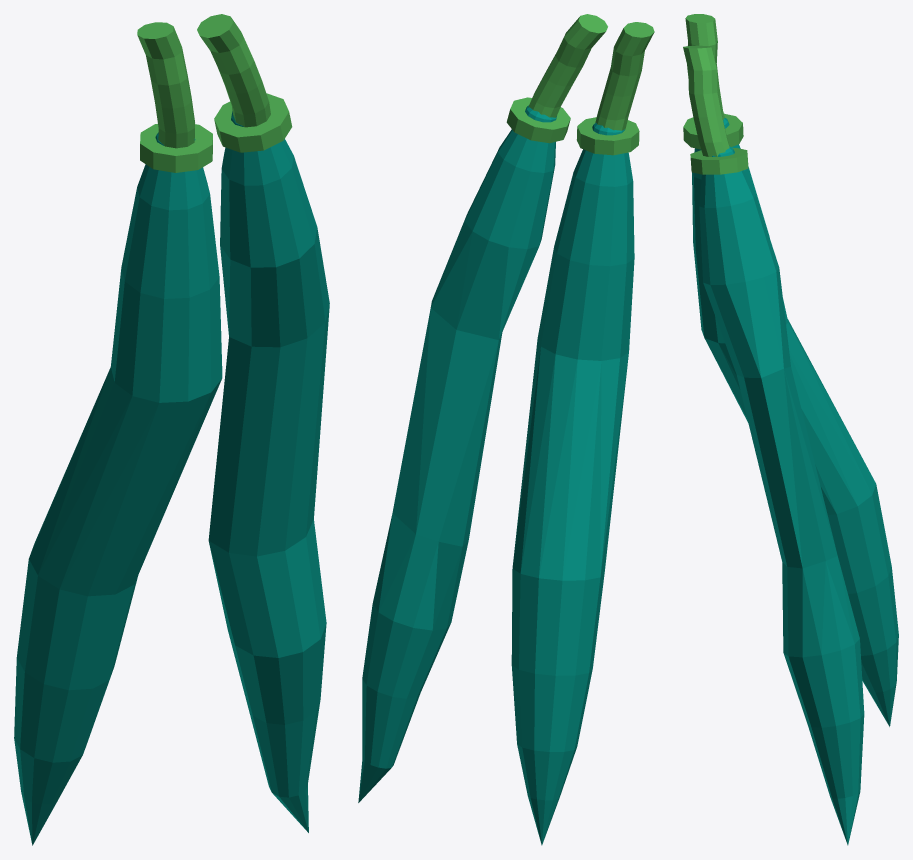
File: Beans.fbx
3 renders of one model, left to right at view 1: azimuth 30°, elevation 25°; view 2: azimuth 150°, elevation 25°; view 3: azimuth 270°, elevation 25°, orthographic. The views are drawn at different scales.
Visible parts, largest first — view 1: mesh_1239635026, mesh_1218014216, group_1250333035, group_880767537, group_1792894746, group_1401879506; view 2: mesh_1239635026, mesh_1218014216, group_1250333035, group_880767537, group_1792894746, group_1401879506; view 3: mesh_1218014216, mesh_1239635026, group_880767537, group_1250333035, group_1792894746, group_1401879506.
Boxes of the visible parts, x1,y1,x2,y2 form: mesh_1239635026: [14, 132, 222, 845]; mesh_1218014216: [208, 111, 329, 832]; group_1250333035: [137, 22, 194, 148]; group_880767537: [197, 14, 270, 127]; group_1792894746: [214, 93, 292, 152]; group_1401879506: [140, 123, 212, 172]; mesh_1239635026: [511, 123, 634, 845]; mesh_1218014216: [358, 105, 556, 802]; group_1250333035: [595, 22, 654, 130]; group_880767537: [528, 14, 607, 117]; group_1792894746: [506, 97, 570, 143]; group_1401879506: [576, 117, 639, 155]; mesh_1218014216: [699, 146, 864, 845]; mesh_1239635026: [692, 118, 898, 726]; group_880767537: [683, 45, 729, 156]; group_1250333035: [685, 14, 724, 119]; group_1792894746: [690, 148, 748, 174]; group_1401879506: [683, 113, 743, 149].
Size of the model in its own units: 8.55 by 27.02 by 7.2.
